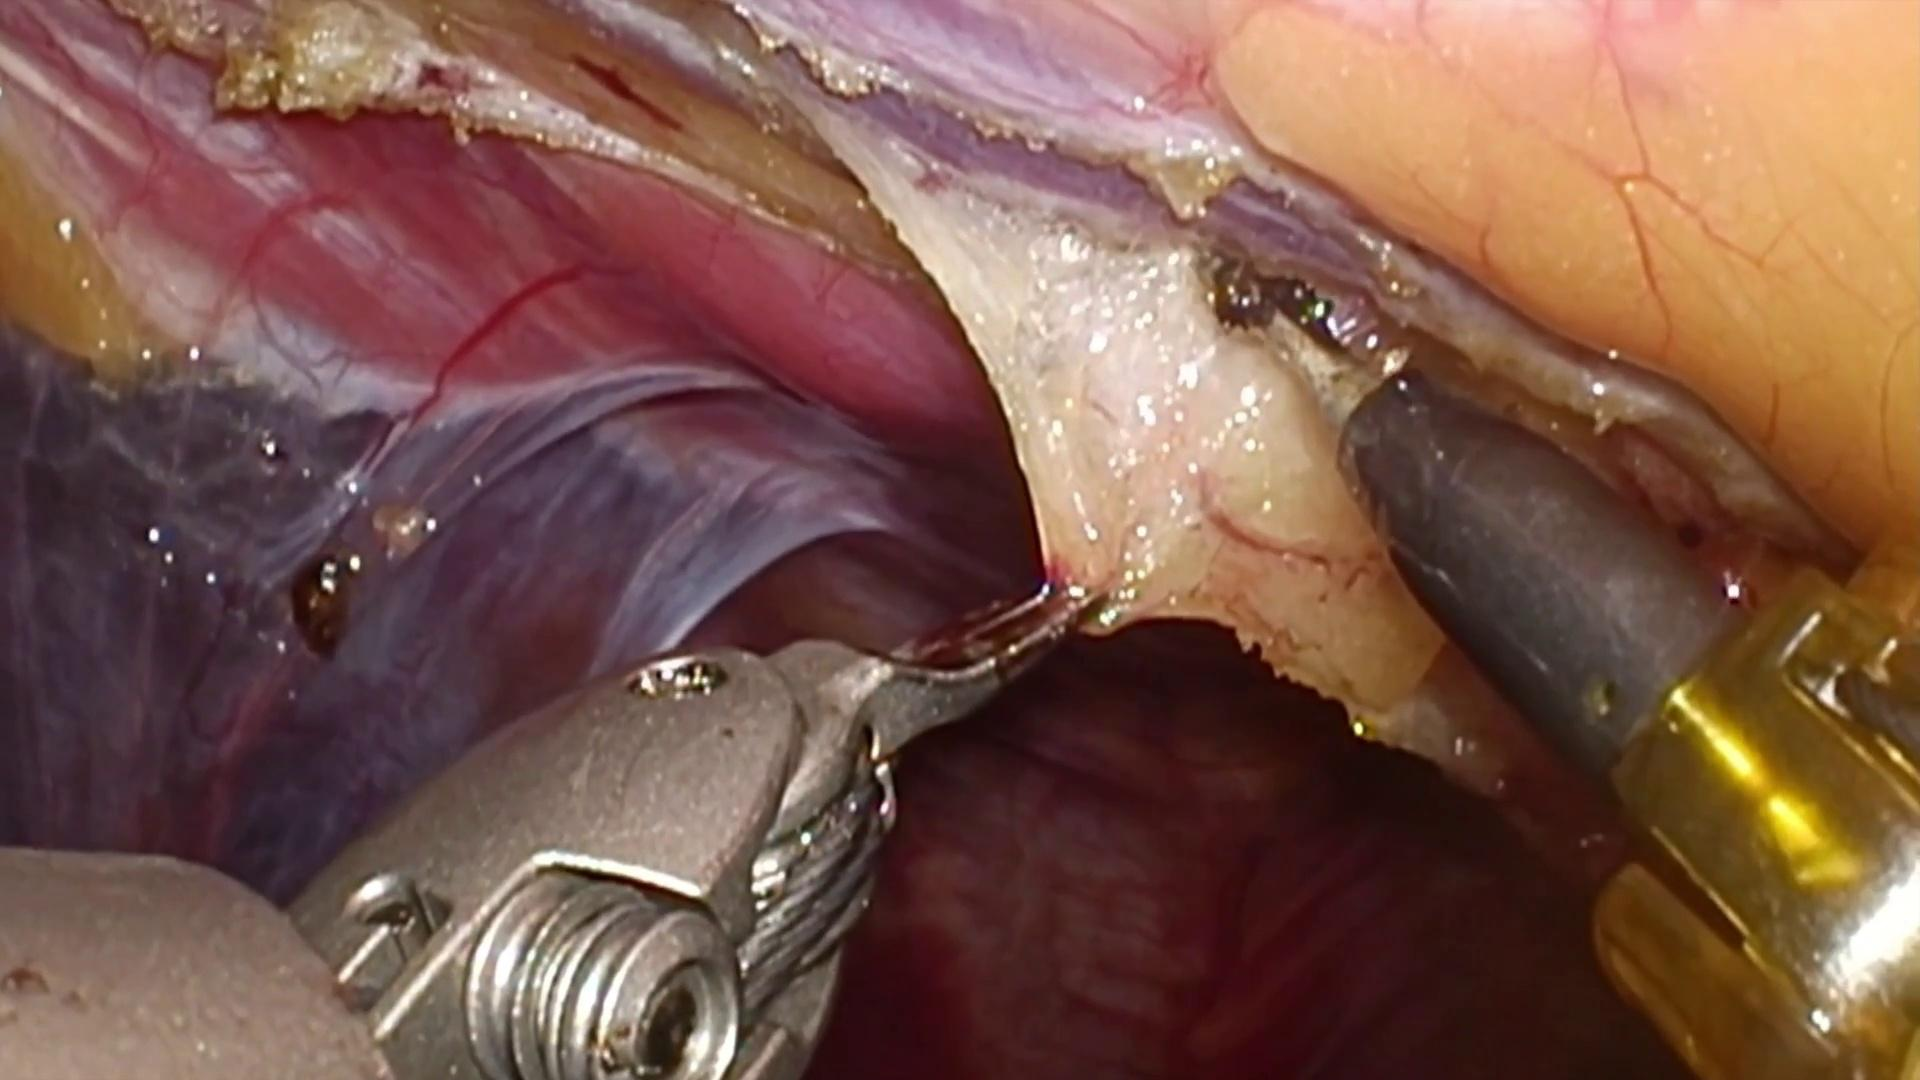Cautery_Spatula: (1220, 248, 1755, 783)
Debakey: (778, 580, 1134, 785)
